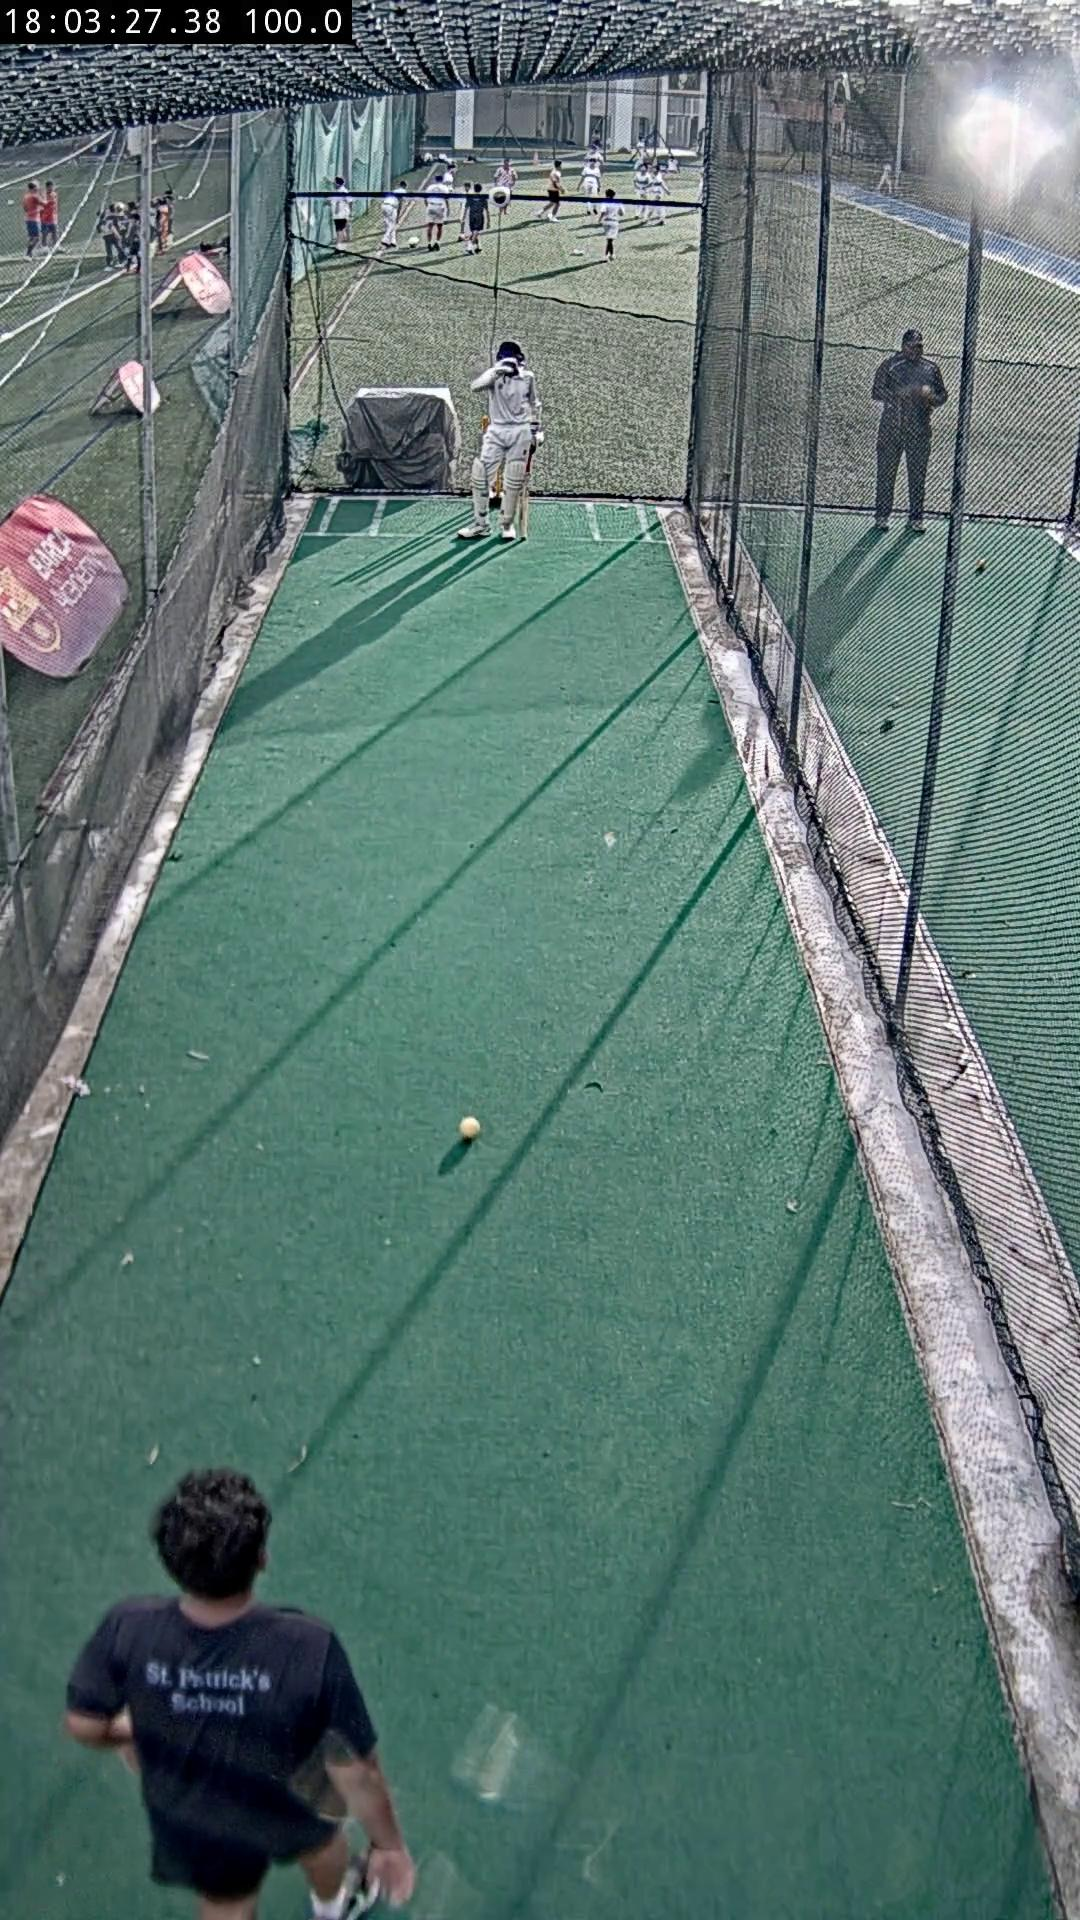ball: (458, 1117, 480, 1143)
bat: (517, 472, 529, 541)
gloves: (498, 356, 521, 377)
helmet: (495, 342, 525, 361)
pads: (498, 462, 525, 529), (472, 458, 492, 525)
